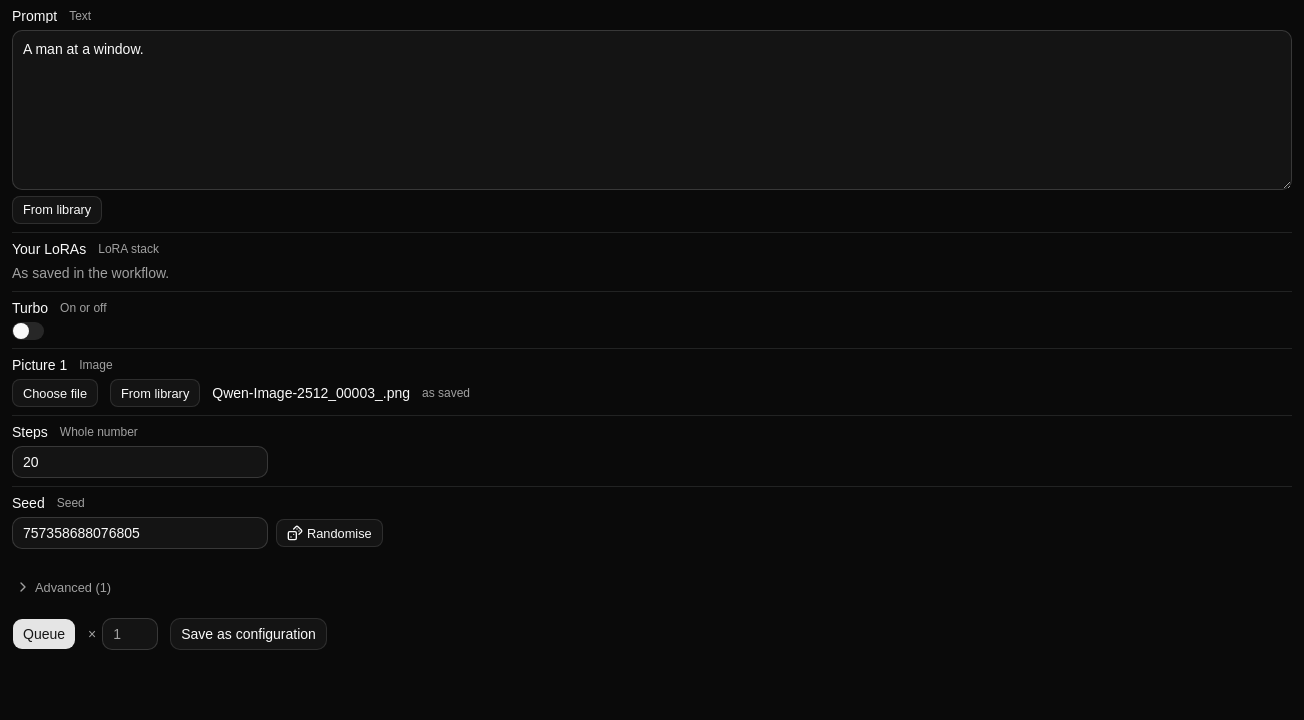
Test: RunForm › says a batch gives later runs fresh seeds once more than one run is asked for
Expected: the text "The first run uses the seeds above; later runs each get fresh ones." is not shown
Replace the text in the field named "Number of runs" with "3" at x=130, y=634, box x1=102 y1=618 x2=158 y2=650
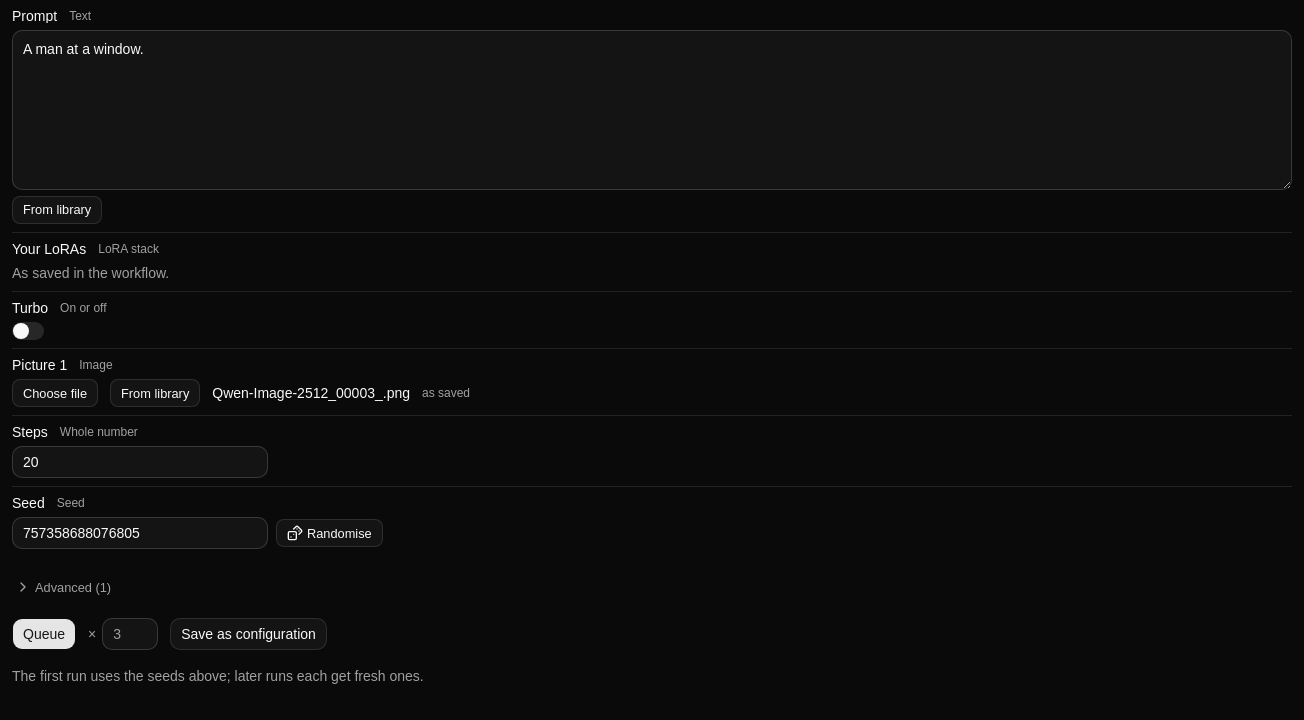
Now the text "The first run uses the seeds above; later runs each get fresh ones." is shown, box x1=12 y1=668 x2=424 y2=684
